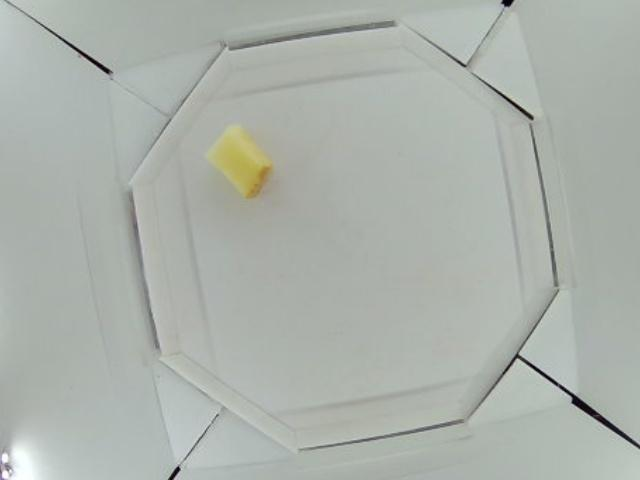Potato: (209, 127, 272, 196)
